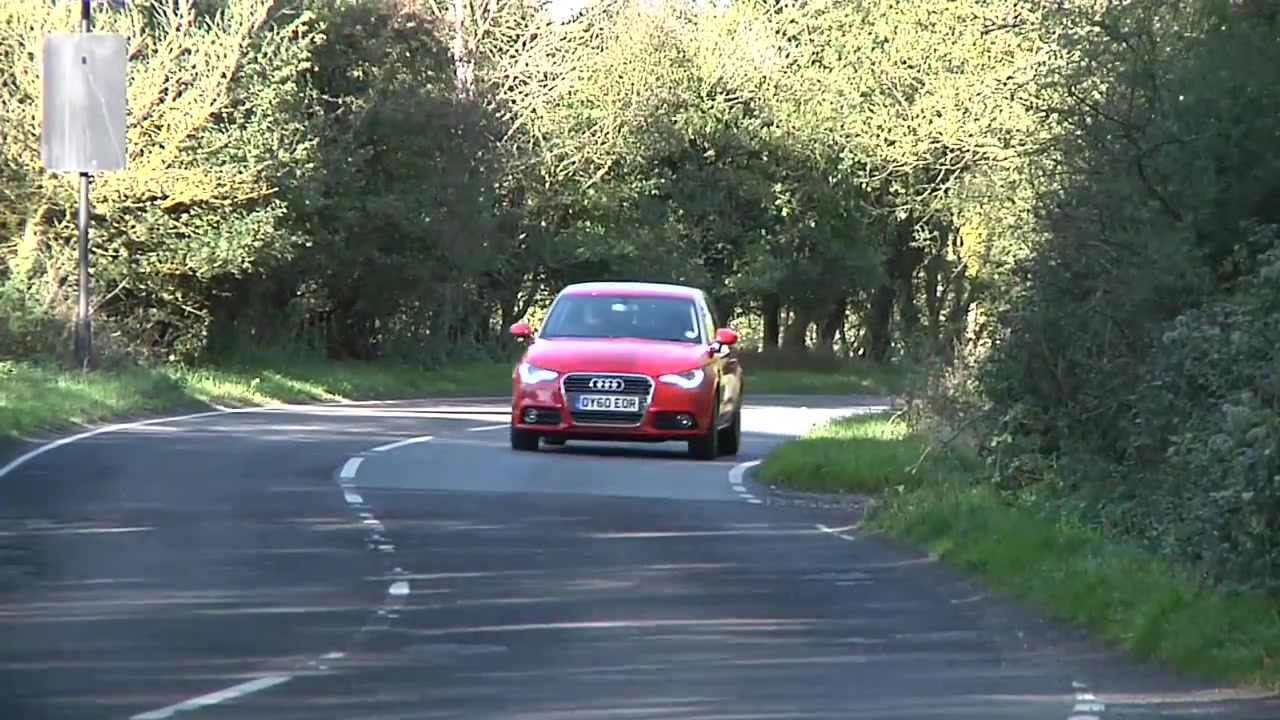car: (506, 274, 750, 458)
